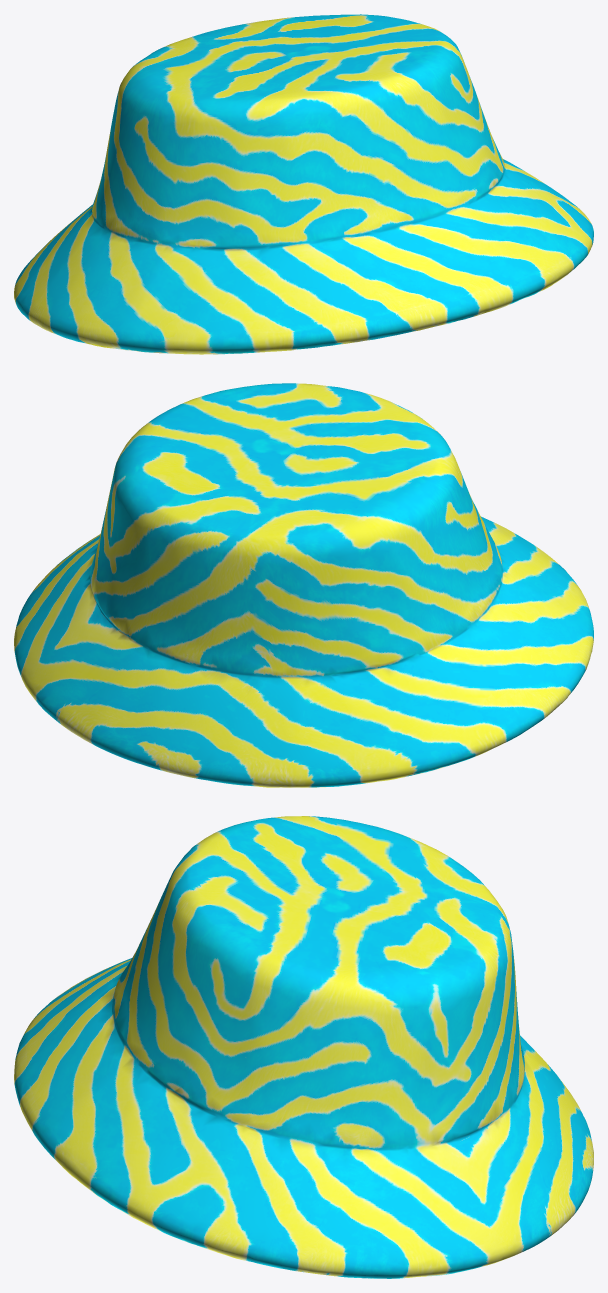
File: Fuzzy-Bucket-Blue-Yellow.glb
3 views of the same model, one above another, from view 1: azimuth 30°, elevation 25°; view 2: azimuth 150°, elevation 25°; view 3: azimuth 270°, elevation 25° (orthographic). The views are drawn at different scales.
Parts seen in each view (by area): view 1: Fuzzy-Bucket-Blue-Yellow; view 2: Fuzzy-Bucket-Blue-Yellow; view 3: Fuzzy-Bucket-Blue-Yellow.
Part boxes in pixels (left/top/right/bottom): Fuzzy-Bucket-Blue-Yellow: left=14, top=14, right=593, bottom=354; Fuzzy-Bucket-Blue-Yellow: left=14, top=383, right=593, bottom=787; Fuzzy-Bucket-Blue-Yellow: left=14, top=816, right=593, bottom=1278.
Bounding box in the file's own units: 0.7047 × 0.336 × 0.5977.
Materials: 1 (1 with a texture image).
